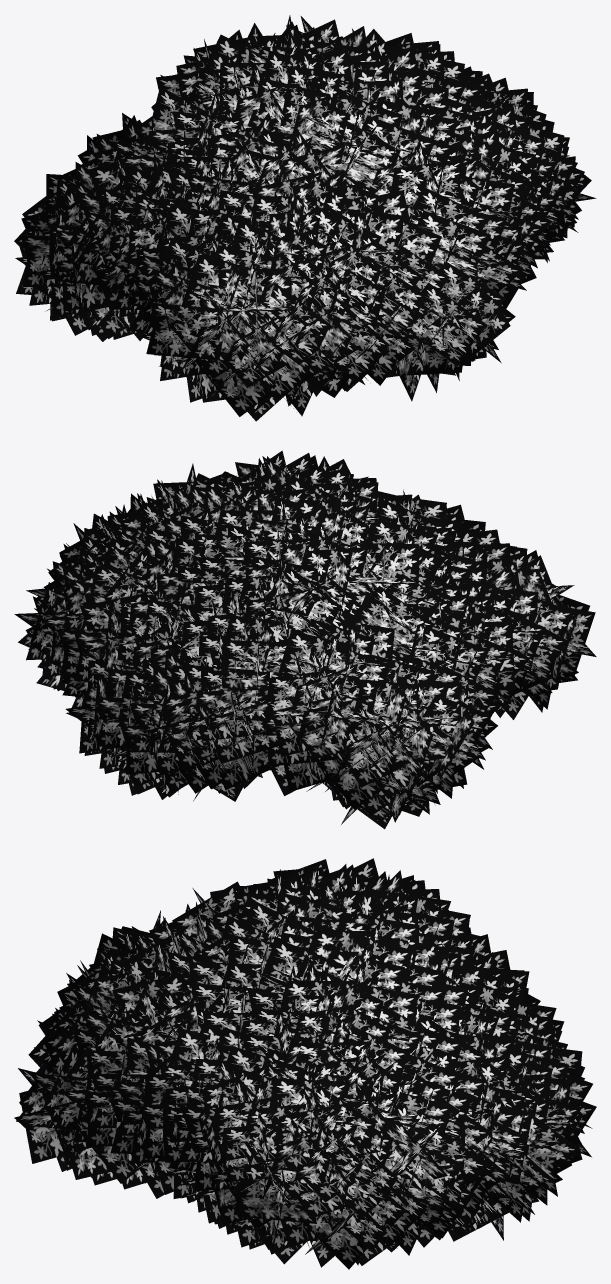
The model's file is megaTreeTestLeafMass.fbx.
The picture shows the model from 3 angles, top to bottom: view 1: azimuth 30°, elevation 25°; view 2: azimuth 150°, elevation 25°; view 3: azimuth 270°, elevation 25°; orthographic projection. The views are drawn at different scales.
Visible parts, largest first — view 1: quick_basic_tree1; view 2: quick_basic_tree1; view 3: quick_basic_tree1.
Boxes of the visible parts, box(x1,y1,x2,y2) form: quick_basic_tree1: box(14, 15, 596, 421); quick_basic_tree1: box(14, 450, 596, 829); quick_basic_tree1: box(14, 858, 596, 1269).
Bounding box in the file's own units: 33.45 × 19.06 × 31.82.
